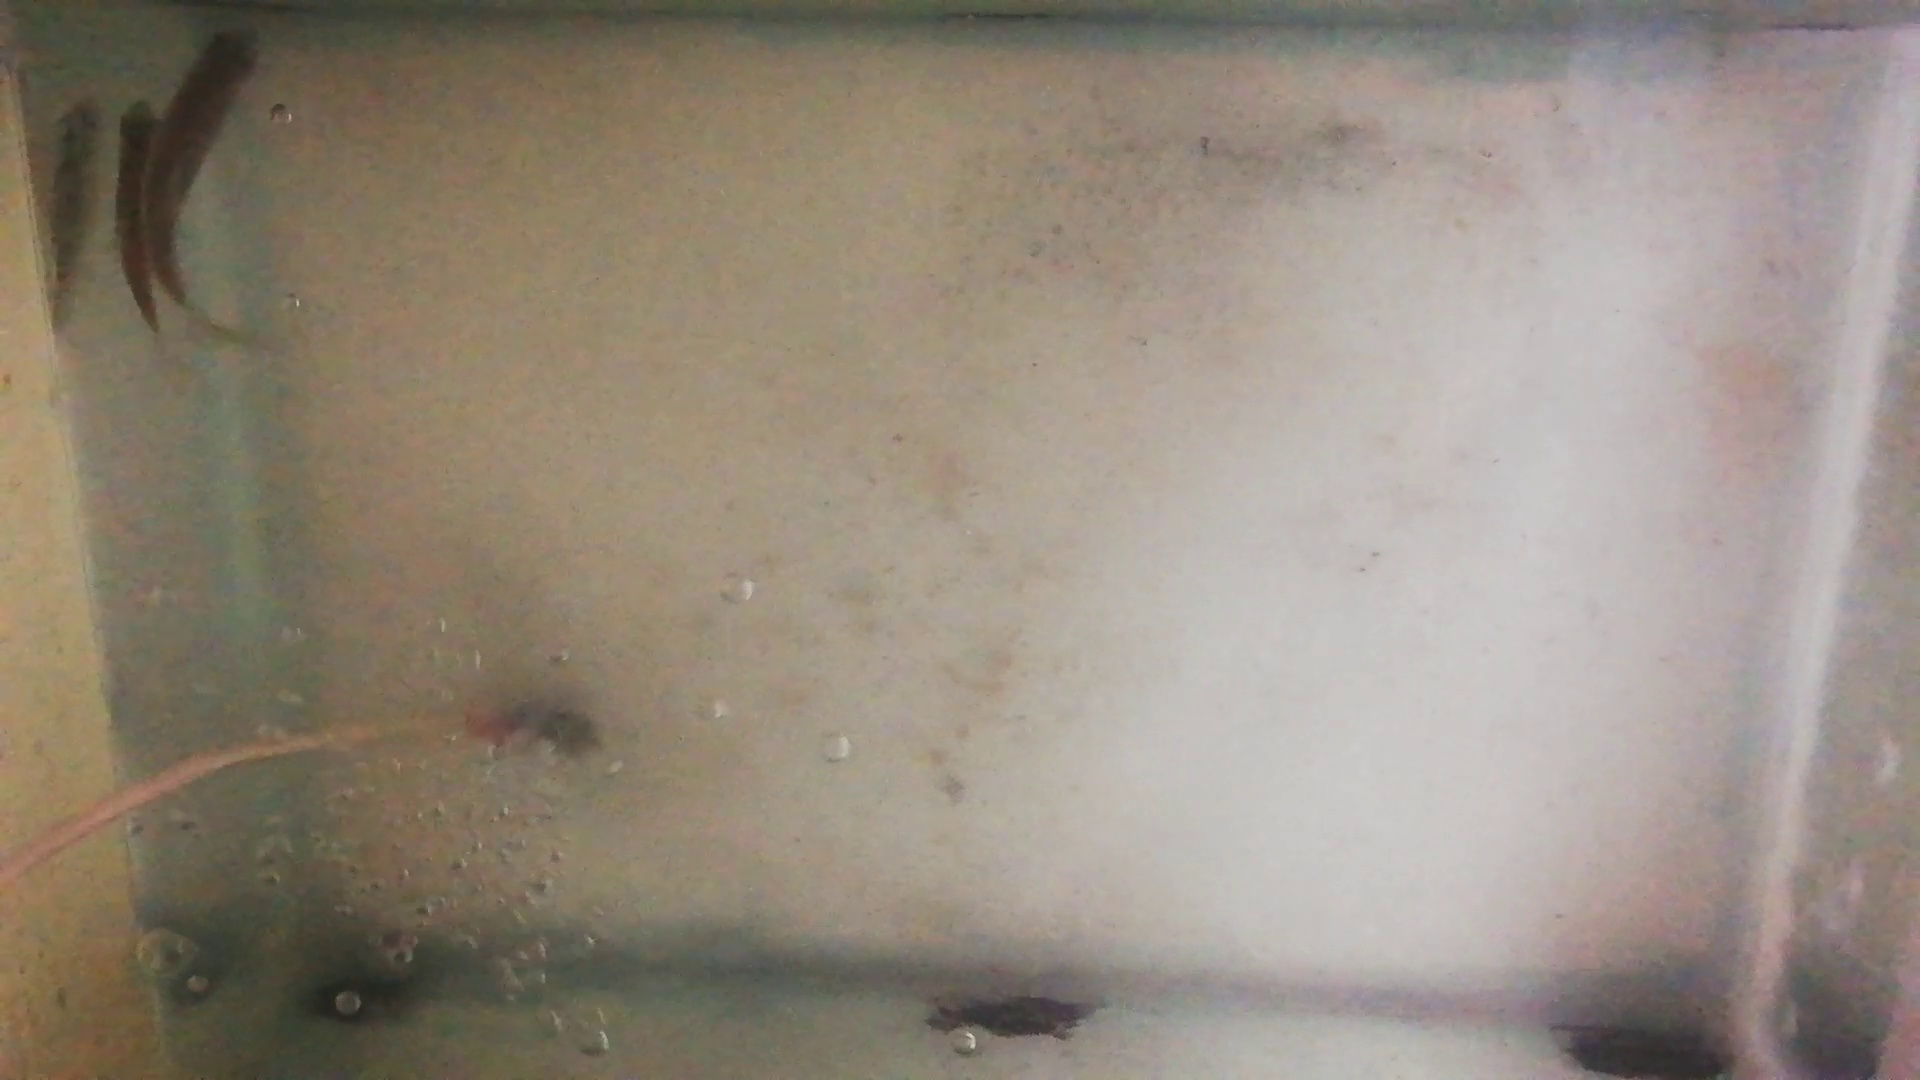fish: (148, 26, 266, 303), (115, 99, 160, 332)
